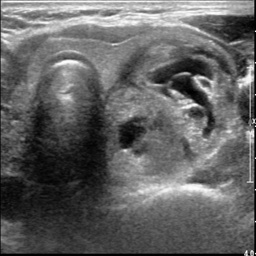mass: (108, 42, 228, 169)
